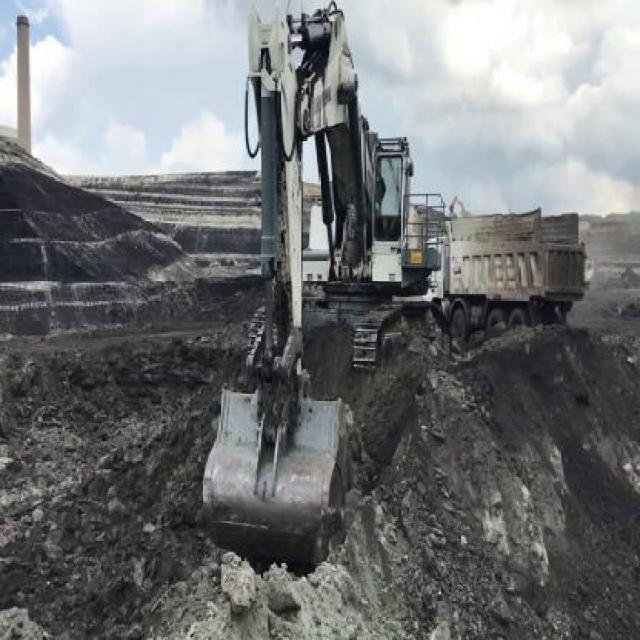Dump Truck: (439, 205, 583, 348)
Excavator: (195, 0, 456, 566)
